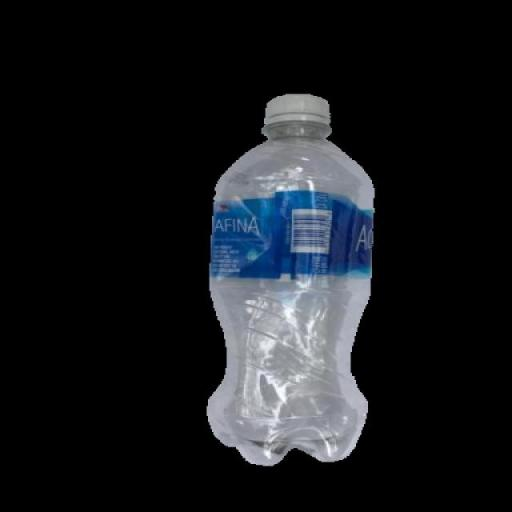plastic: (206, 96, 377, 466)
